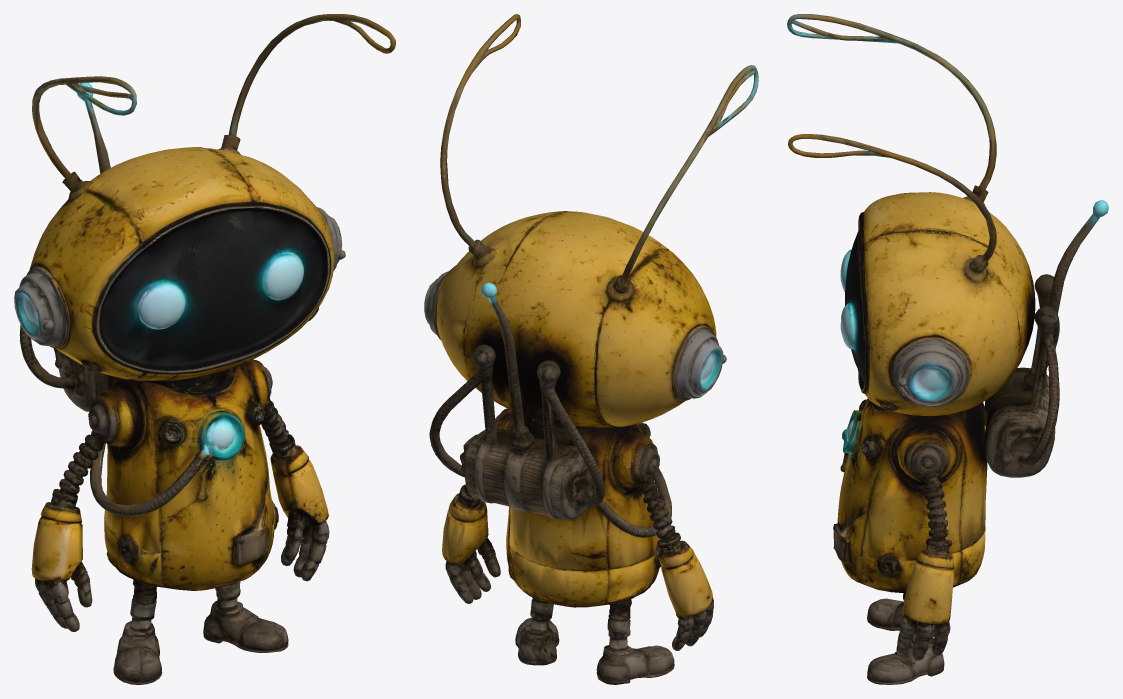
The model's file is chair.glb.
The picture shows the model from 3 angles, left to right: view 1: azimuth 30°, elevation 25°; view 2: azimuth 150°, elevation 25°; view 3: azimuth 270°, elevation 25°; orthographic projection. The views are drawn at different scales.
Parts seen in each view (by area): view 1: material; view 2: material; view 3: material.
Boxes of the visible parts, x1,y1,x2,y2 form: material: [14, 14, 395, 684]; material: [424, 14, 758, 684]; material: [787, 14, 1108, 684].
Size of the model in its own units: 0.5101 by 1.02 by 0.5106.
Materials: 1 (1 with a texture image).
